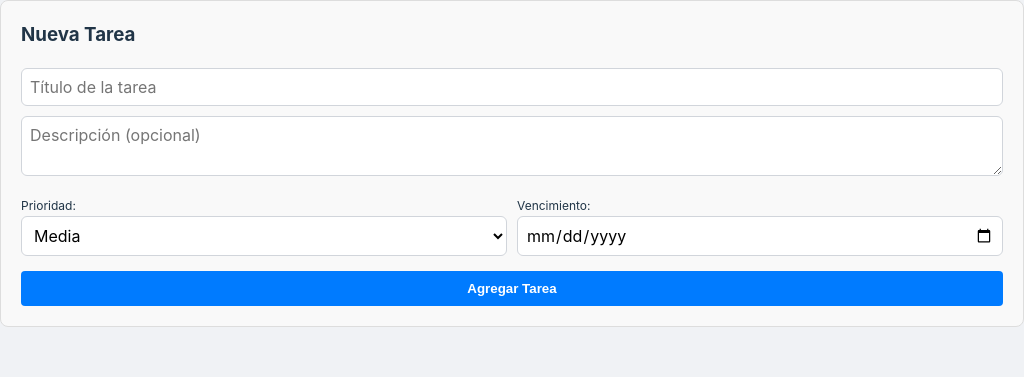
Scenario: TaskForm integration › shows an error when the title is empty
The width and height of the screenshot is (1024, 377).
Click the button "Agregar Tarea".
click(512, 288)  # box [21,271,1003,306]
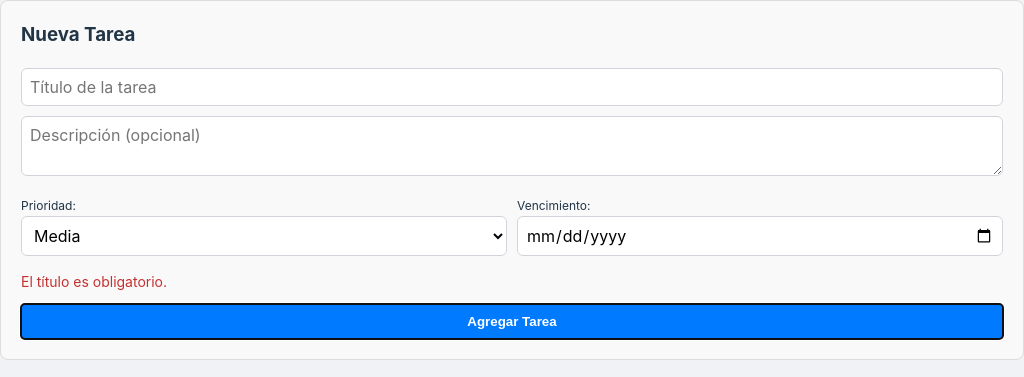
Expected: the text "El título es obligatorio." is shown, [21,273,167,290]
